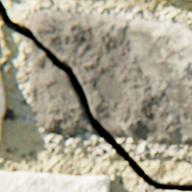brick: (0, 173, 110, 191), (0, 71, 6, 142)
broken_brick: (31, 11, 191, 145), (30, 41, 102, 140)
crack: (0, 0, 191, 191)
